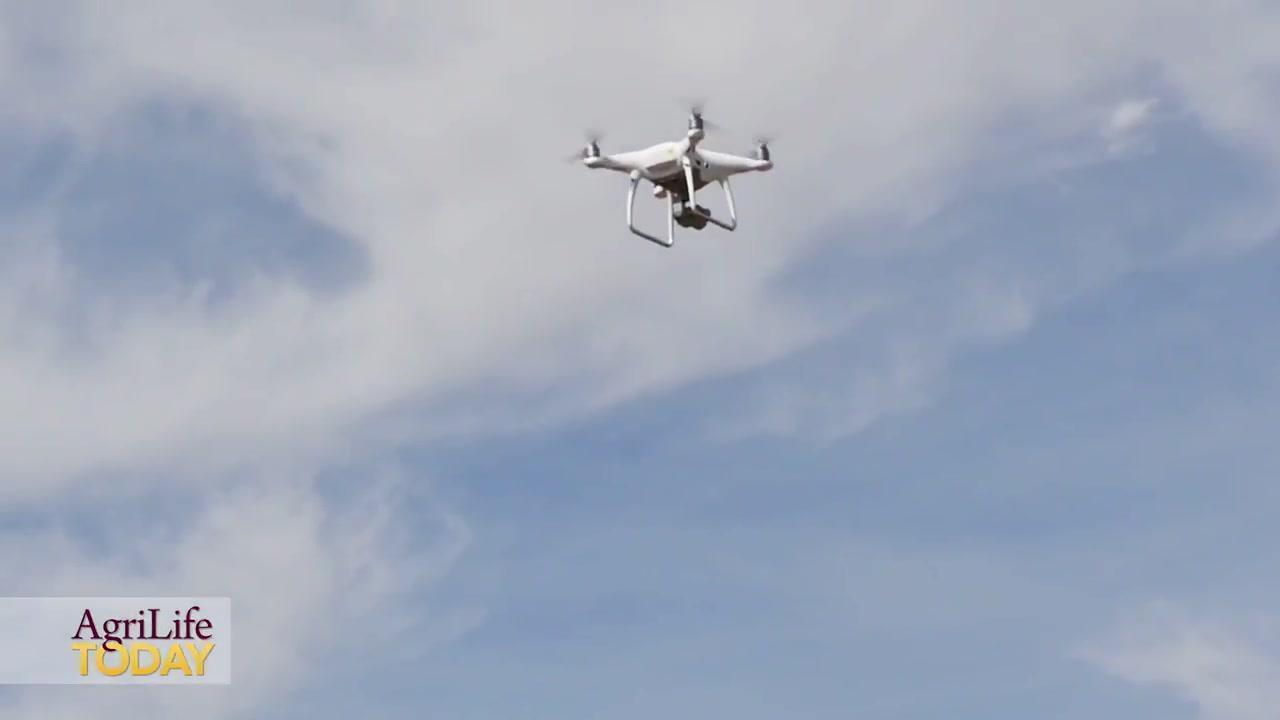UAV: (563, 96, 785, 249)
